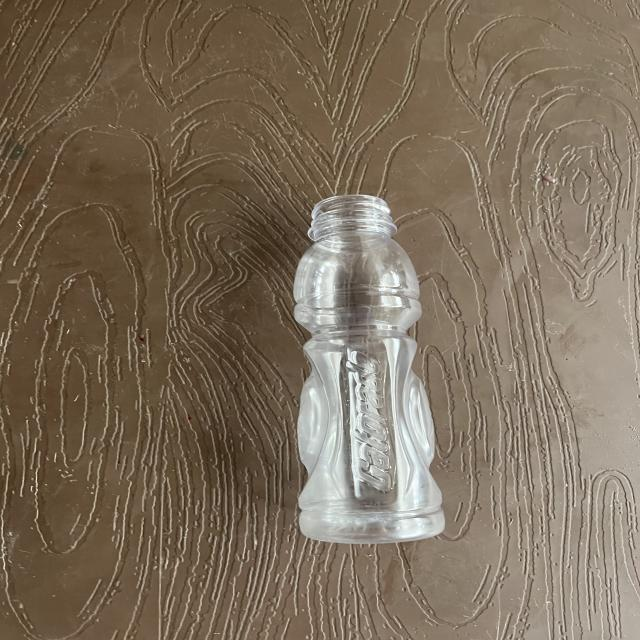PET_ClearBottle: (281, 203, 453, 542)
